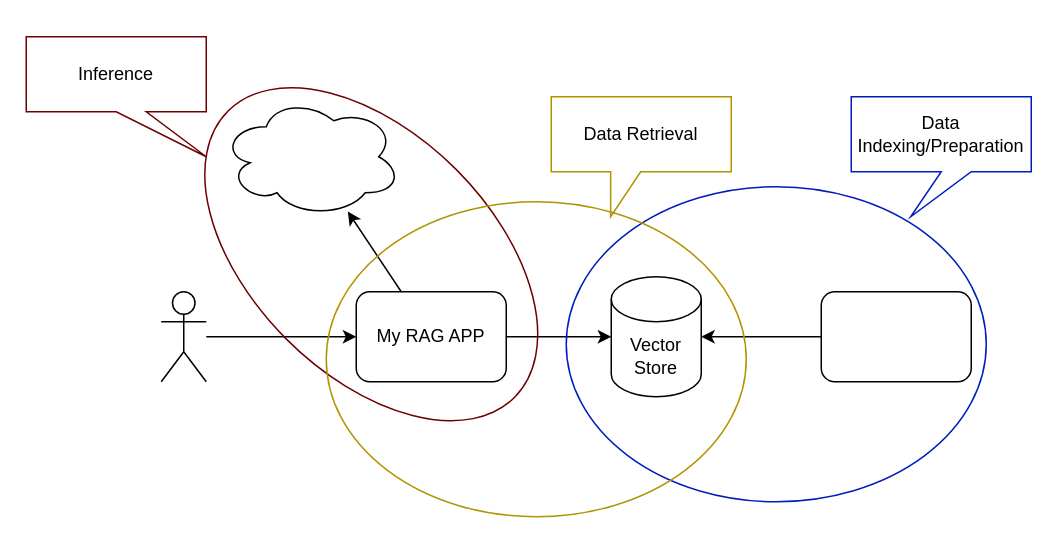
Image size: 1058x545. Some labels were removed from this diagram. The centre of each missing label's shape, as x and y in pixels:
"Actor" goes at [183,336].
"LLM" goes at [310,156].
"My Data Source" goes at [895,336].
